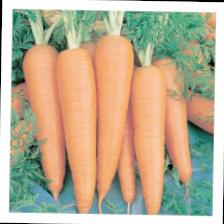carrot: (91, 33, 134, 216), (19, 42, 68, 202), (53, 47, 98, 216), (128, 64, 167, 219), (150, 57, 194, 184)
